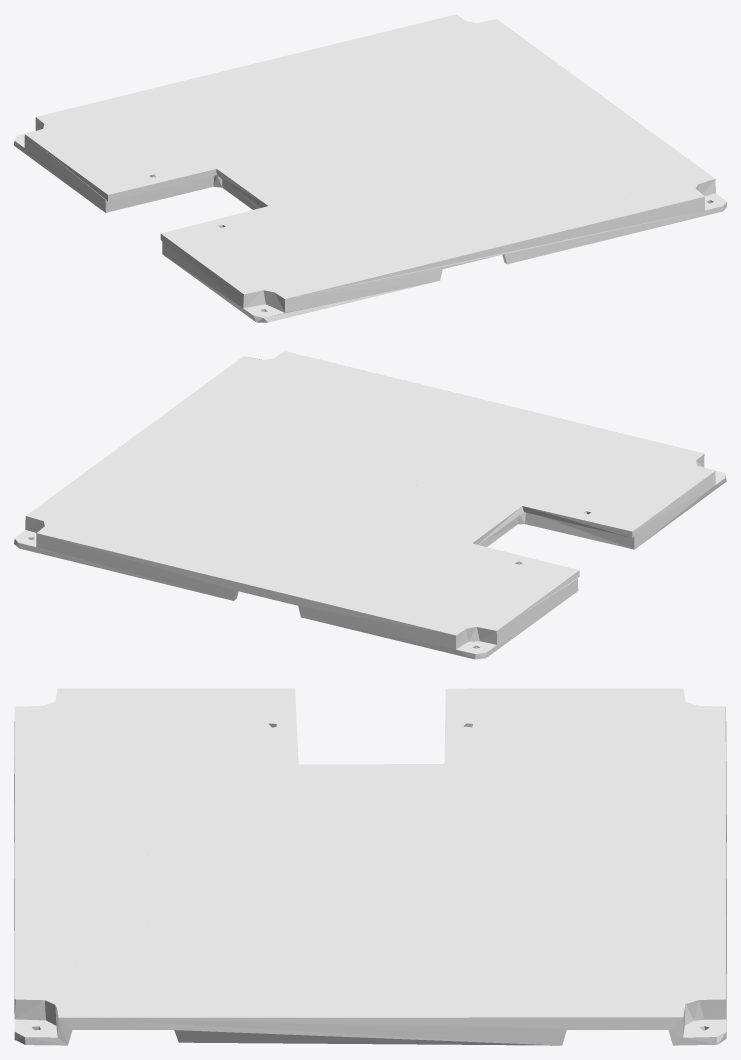
Rendered from scara_base.dae.
3 views of the same model, one above another, from view 1: azimuth 30°, elevation 25°; view 2: azimuth 150°, elevation 25°; view 3: azimuth 270°, elevation 25° (orthographic). The views are drawn at different scales.
Visible parts, largest first — view 1: BASE; view 2: BASE; view 3: BASE.
Boxes of the visible parts, bbox=[...] form: BASE: bbox=[14, 14, 726, 322]; BASE: bbox=[14, 351, 726, 659]; BASE: bbox=[14, 688, 726, 1045].
Bounding box in the file's own units: 0.2302 × 0.2103 × 0.00906.
1 material, 1 textured.
